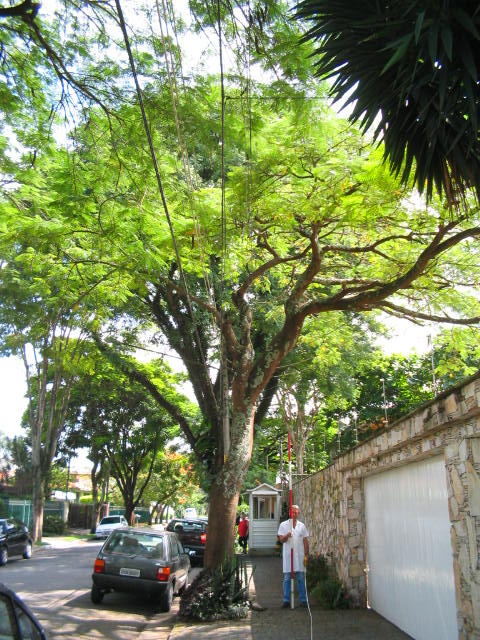crown: (4, 75, 473, 368)
stem: (185, 472, 259, 614)
stick: (276, 434, 302, 611)
tree: (1, 74, 475, 616)
